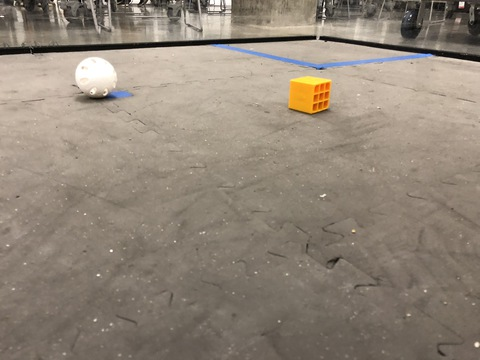ball: (71, 53, 129, 106)
block: (285, 75, 334, 117)
